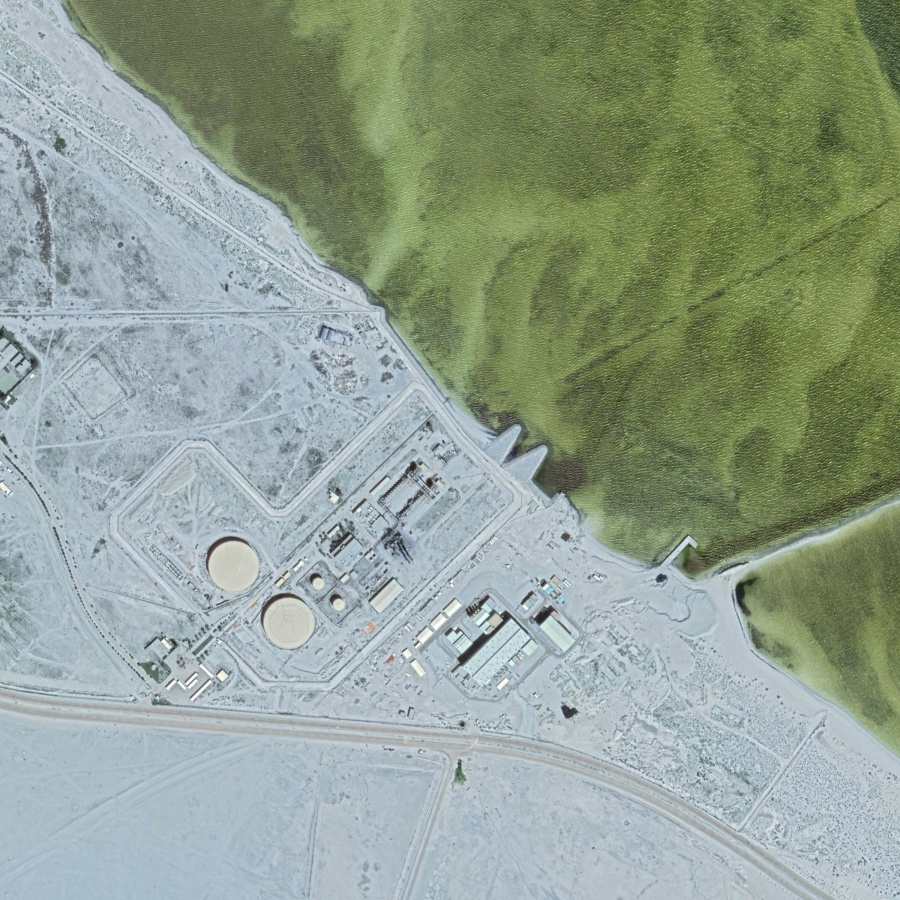PowerPlant: (185, 431, 590, 718)
